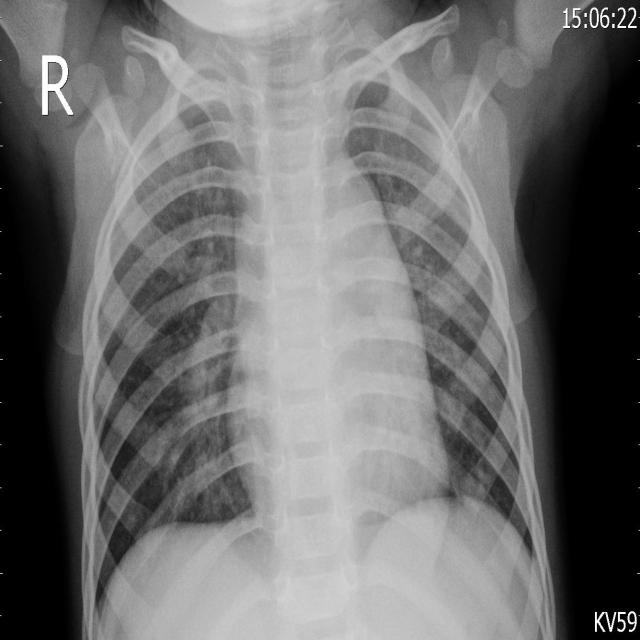no-pneumonia: (346, 73, 542, 557), (81, 97, 251, 626)
